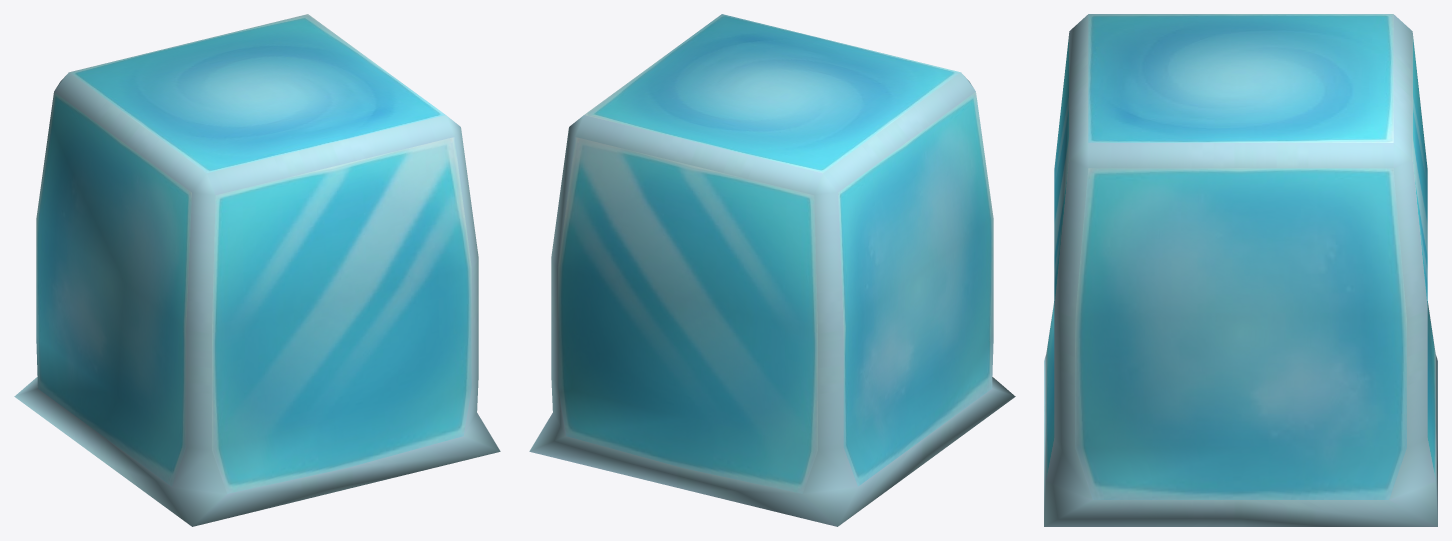
Rendered from Wallcube01.glb.
3 renders of one model, left to right at view 1: azimuth 30°, elevation 25°; view 2: azimuth 150°, elevation 25°; view 3: azimuth 270°, elevation 25°, orthographic. The views are drawn at different scales.
Visible parts, largest first — view 1: WallCube01; view 2: WallCube01; view 3: WallCube01.
Part boxes in pixels (<box>): WallCube01: <box>14,14,500,526</box>; WallCube01: <box>529,14,1015,526</box>; WallCube01: <box>1044,14,1437,526</box>.
Size of what is drawn, in the model's own units: 2.85 by 2.92 by 2.85.
Materials: 1 (1 with a texture image).
